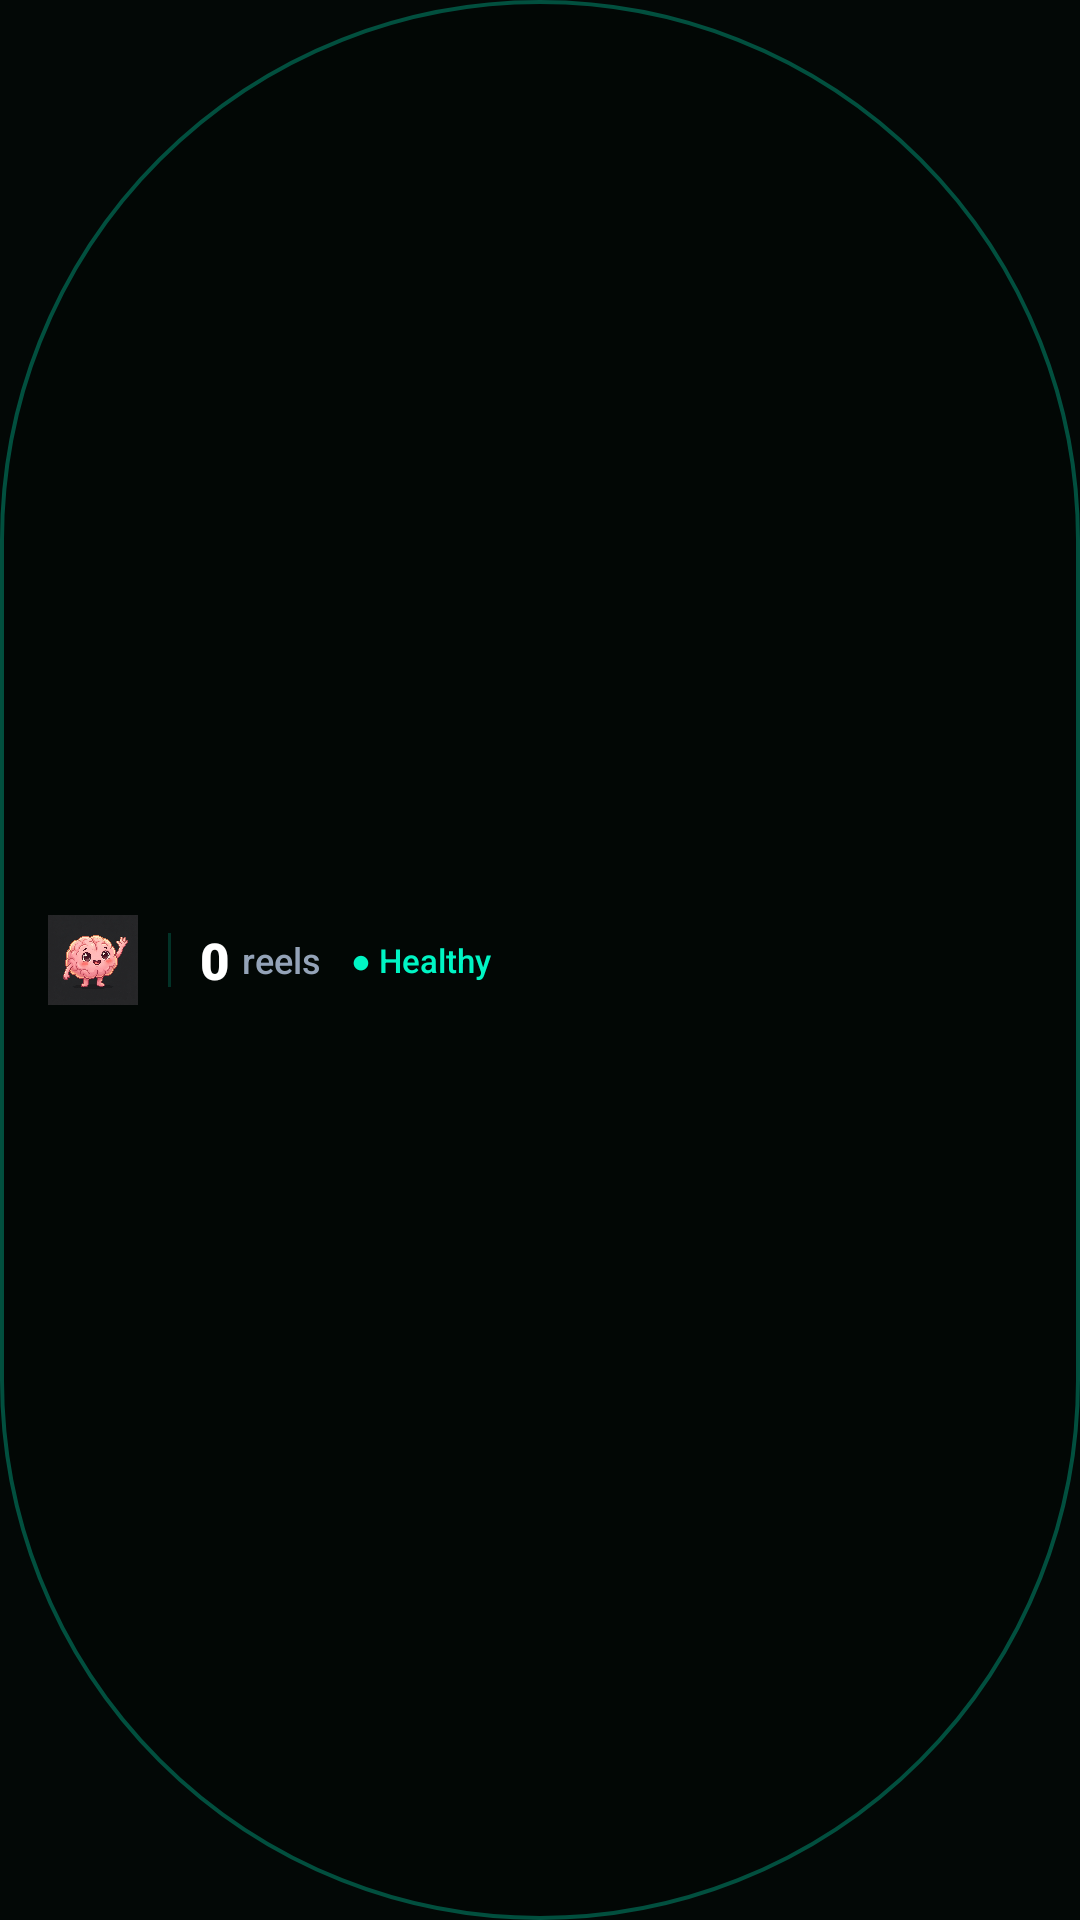

Icon bounding boxes for this 1080 x 1920 phone screenshot, format region(x1, y1, x2, y2):
Brain Mascot: region(48, 915, 138, 1005)
